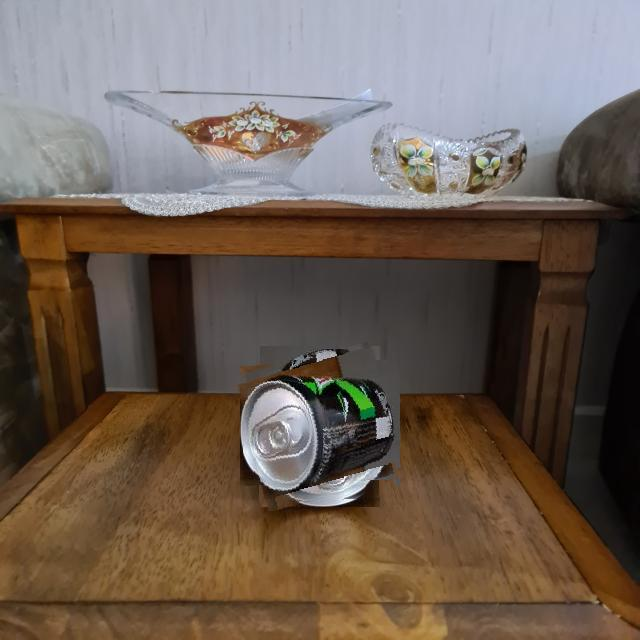recyclable: (243, 349, 397, 504)
